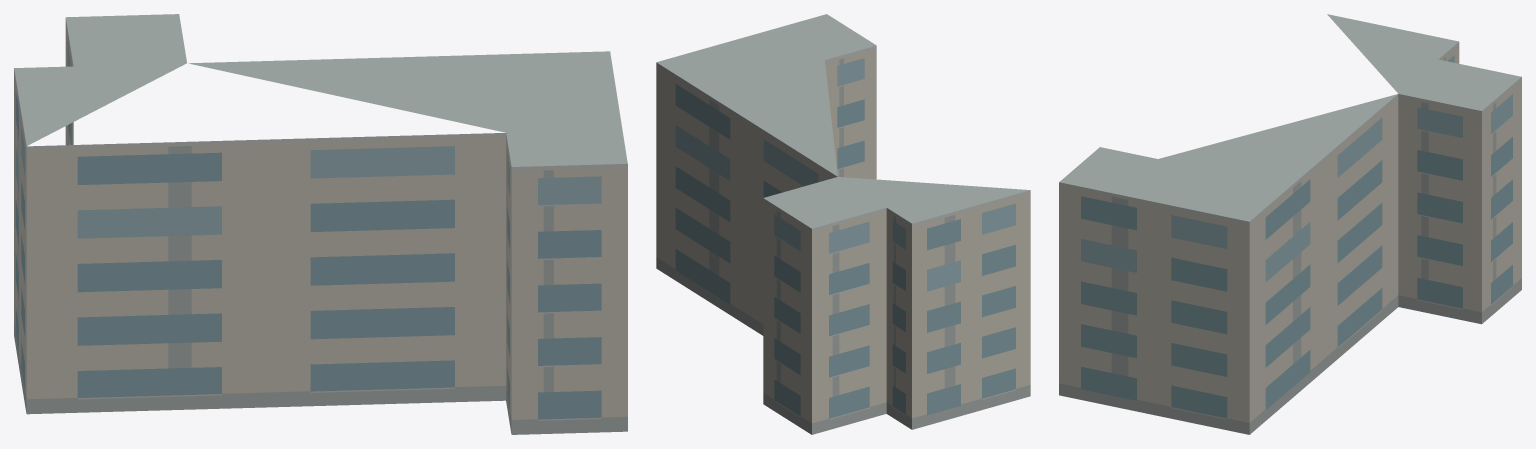
The model's file is residential-0480c6cf-2a4d-4ac3-9d60-b95b94958555.glb.
The picture shows the model from 3 angles, left to right: view 1: azimuth 30°, elevation 25°; view 2: azimuth 150°, elevation 25°; view 3: azimuth 270°, elevation 25°; orthographic projection. The views are drawn at different scales.
Parts seen in each view (by area): view 1: residential-0480c6cf-2a4d-4ac3-9d60-b95b94958555.tmp; view 2: residential-0480c6cf-2a4d-4ac3-9d60-b95b94958555.tmp; view 3: residential-0480c6cf-2a4d-4ac3-9d60-b95b94958555.tmp.
Part boxes in pixels (x1,y1,x2,y2): residential-0480c6cf-2a4d-4ac3-9d60-b95b94958555.tmp: (14, 14, 627, 434); residential-0480c6cf-2a4d-4ac3-9d60-b95b94958555.tmp: (656, 14, 1030, 434); residential-0480c6cf-2a4d-4ac3-9d60-b95b94958555.tmp: (1059, 14, 1521, 434).
Size of the model in its own units: 31.89 by 15.25 by 30.01.
